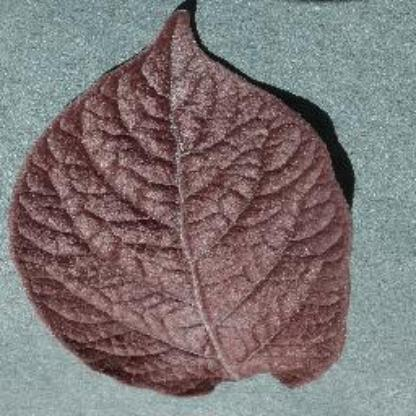Healthy-plant: (13, 13, 382, 392)
